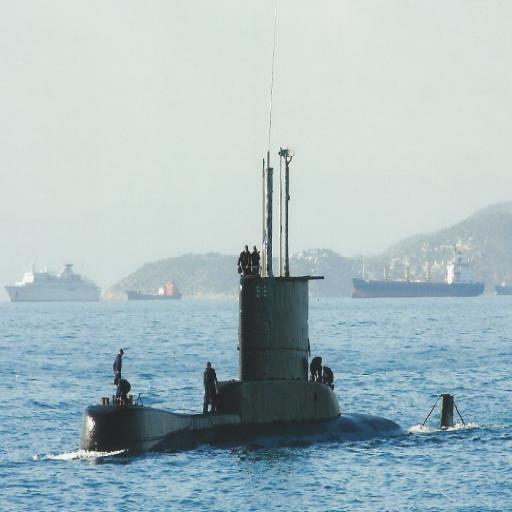submarine: (81, 132, 477, 456)
